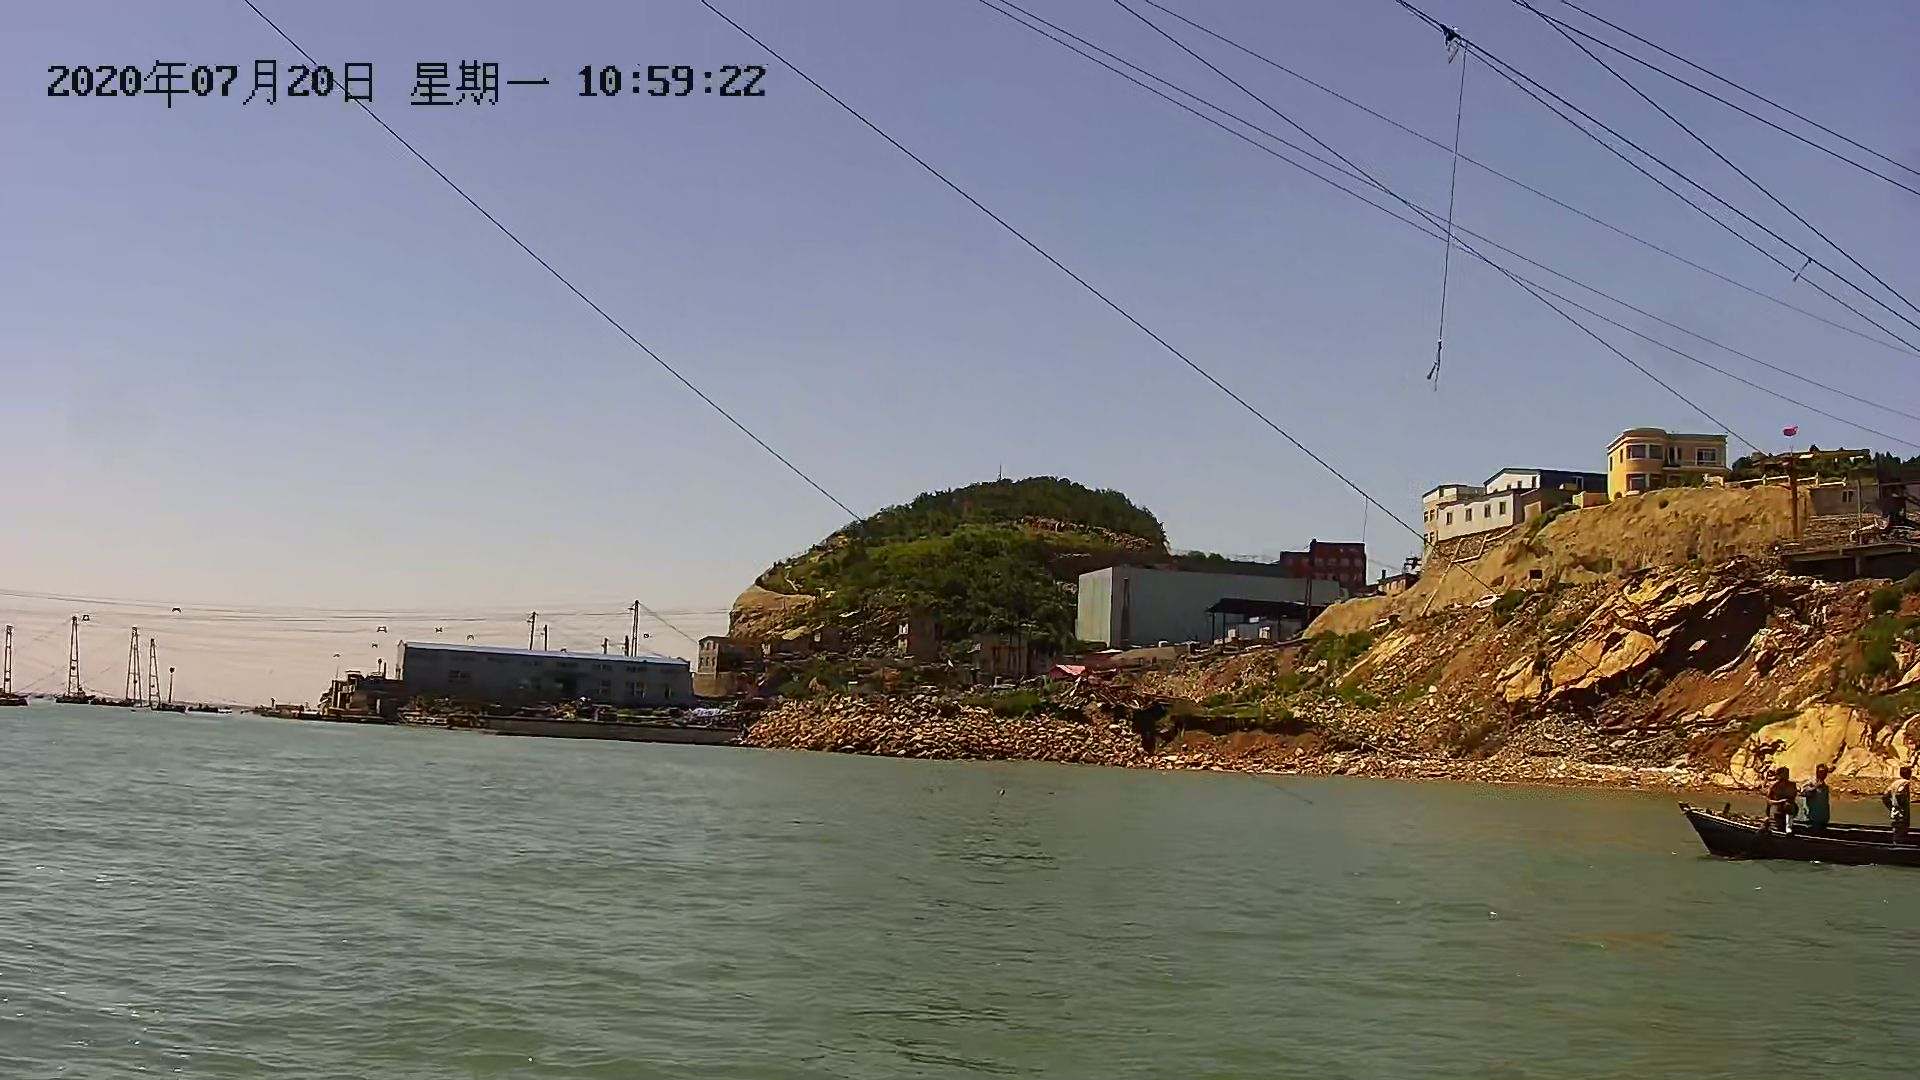boat: (1672, 785, 1920, 866)
person: (1881, 761, 1918, 850), (1755, 763, 1799, 839), (1802, 761, 1837, 837)
